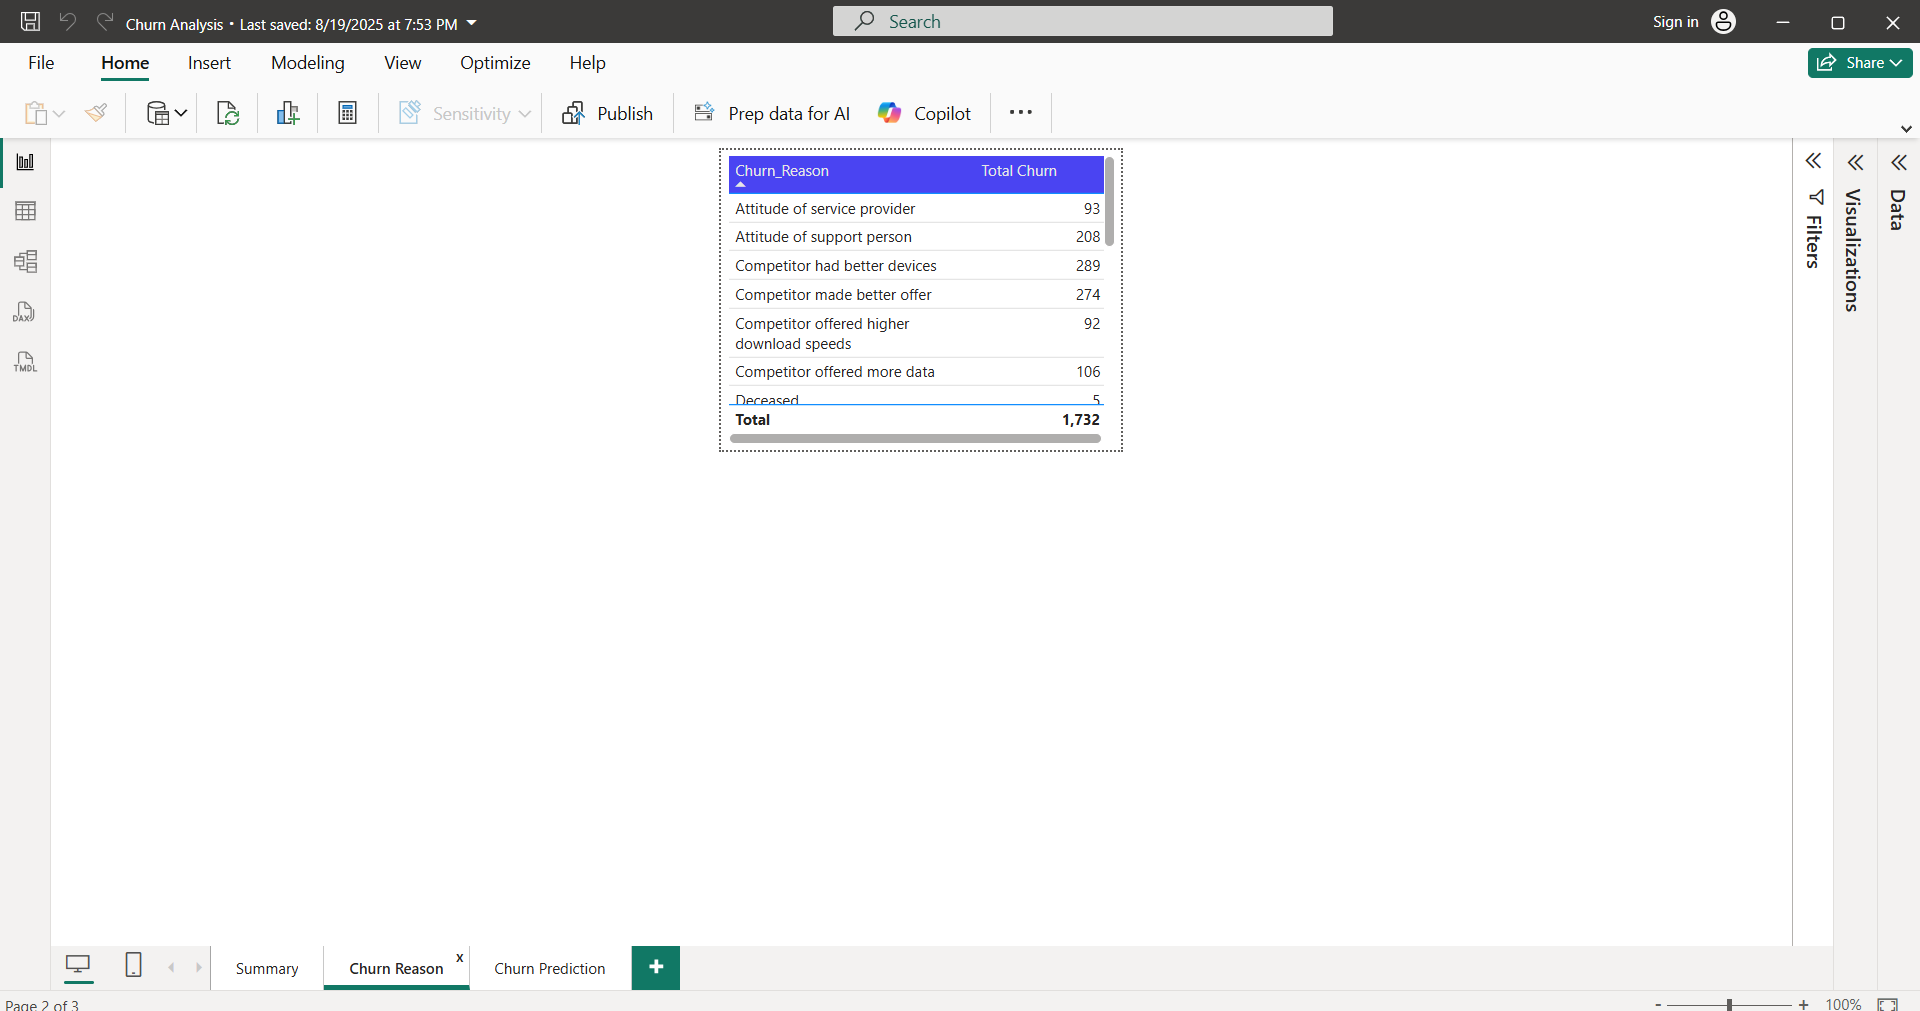

Layout of this report page (visuals, bound fields, positions):
{"tool":"powerbi","page":{"name":"Churn Reason","canvas":[320,240],"ordinal":1},"visuals":[{"type":"tableEx","fields":{"Values":["prod_Churn.Churn_Reason","tbl_Measures.Total Churn"]},"box":[0,0,320,240],"z":0}]}

Visuals, with their boxes on the page's 320x240 design canvas (x1, y1, x2, y2). These are canvas units, not pixel positions in the 1920x1011 screenshot, which may show the page scaled, cropped or inside an application window:
tableEx - prod_Churn.Churn_Reason x tbl_Measures.Total Churn: box(0, 0, 320, 240)
